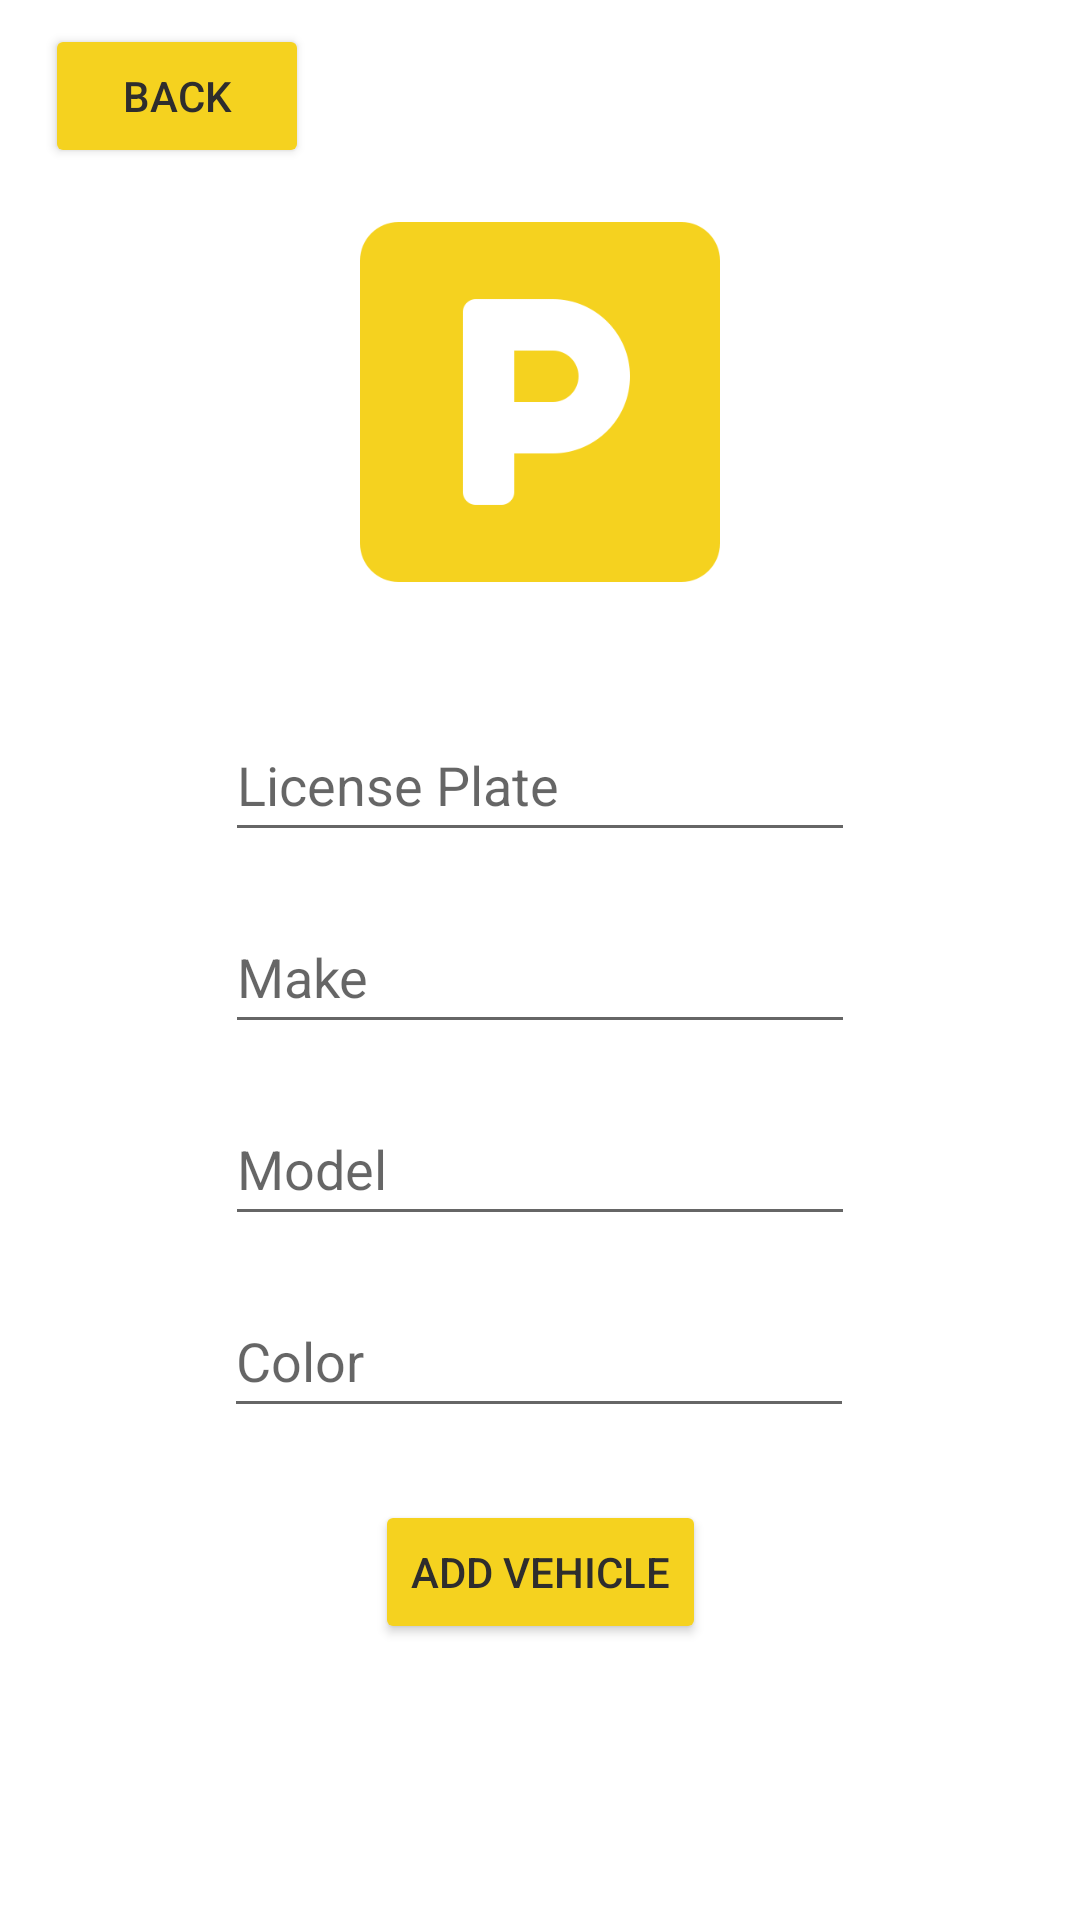

Icon bounding boxes for this 1080 × 1920 phone screenshot, format (x1, y1, x2, y2):
Parking Lot Sign: (360, 222, 720, 582)
